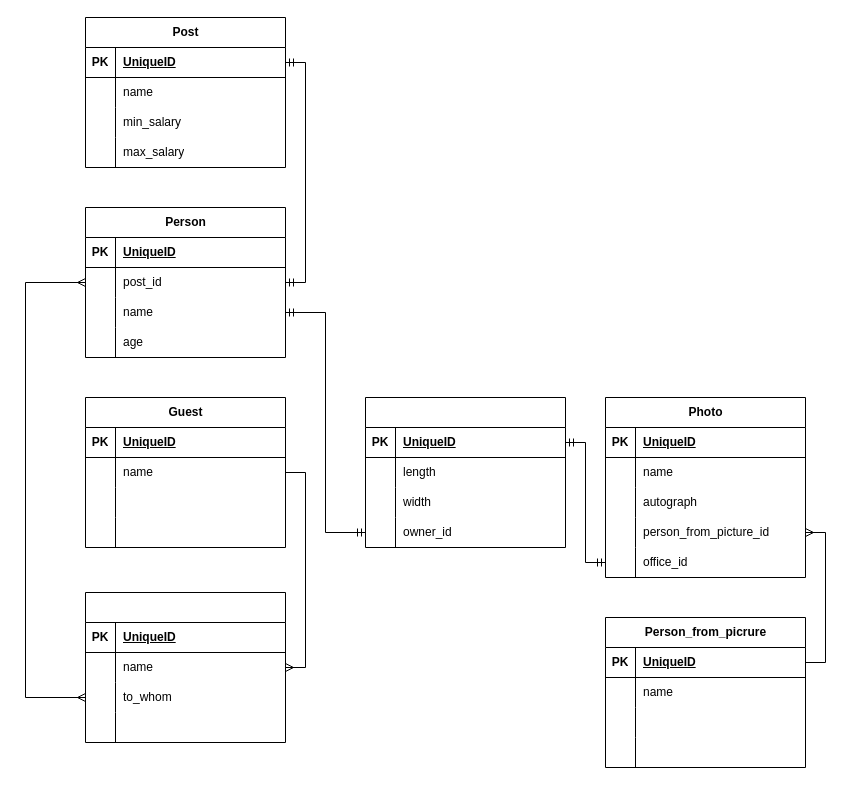
Image size: 851x785. Some labels were removed from this diagram. Each missing label, with the box of its shape:
Office: (364, 396, 566, 548)
Visit: (84, 592, 286, 742)
